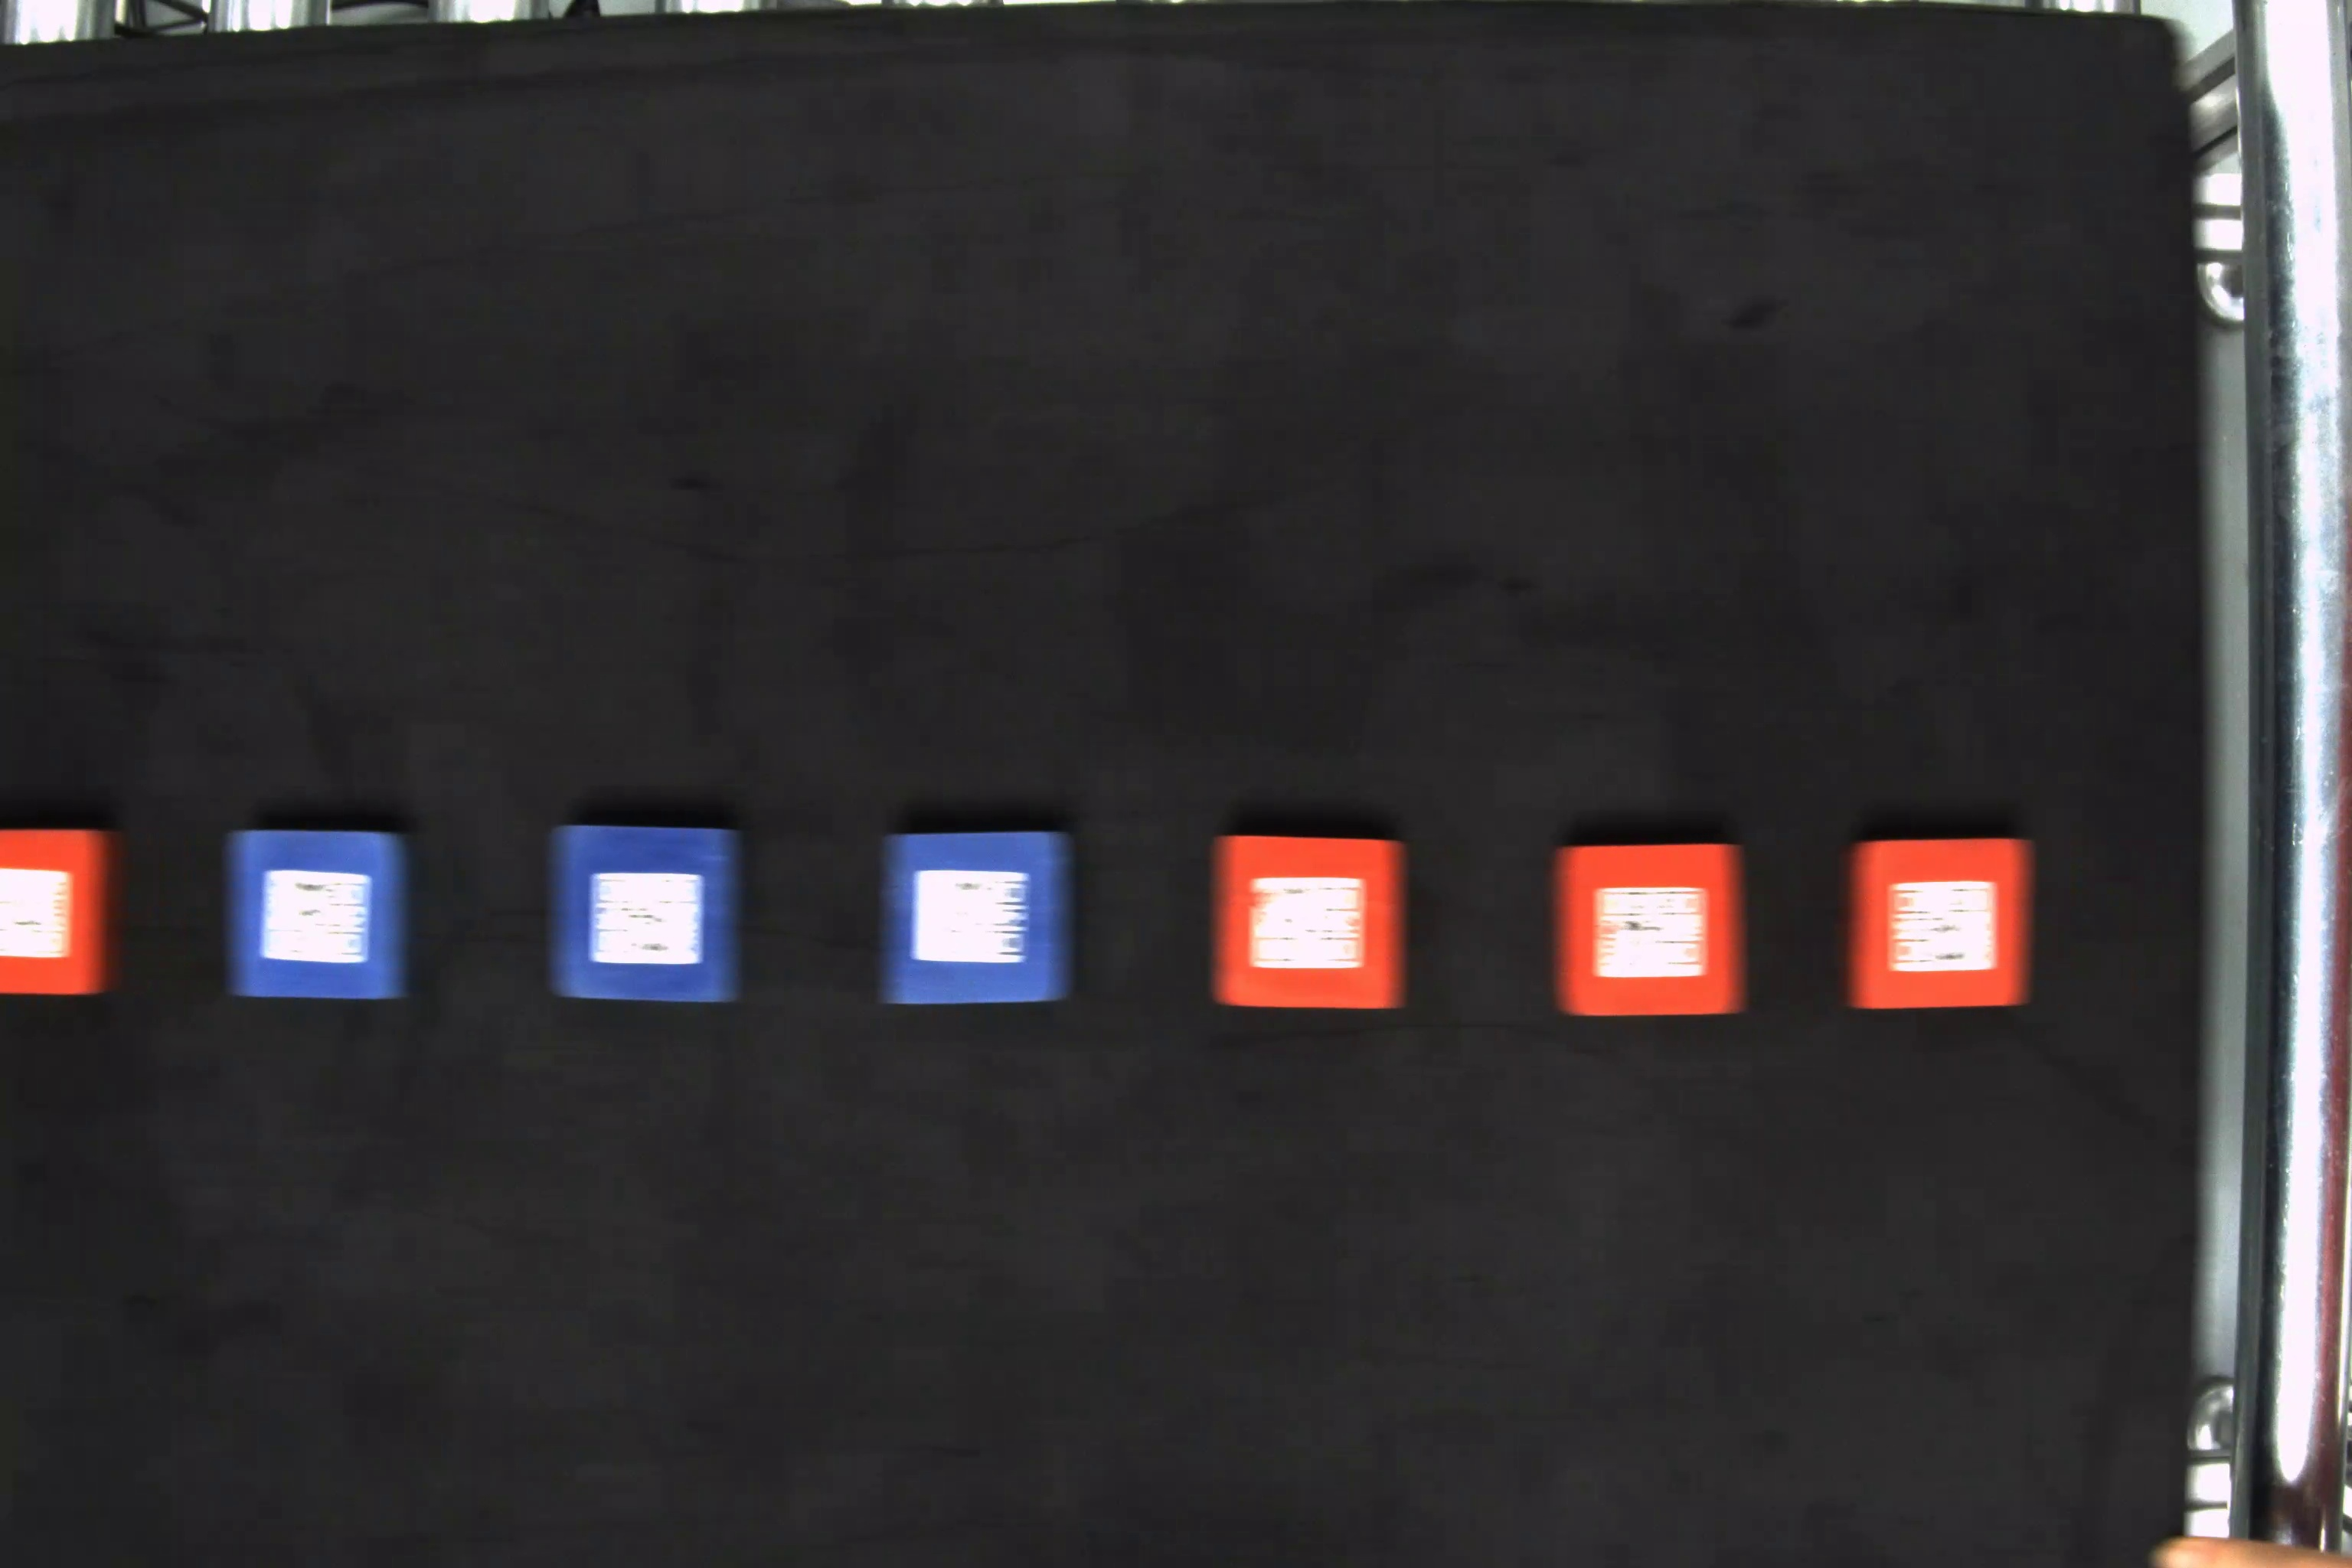wood: (546, 821, 749, 1006), (1211, 829, 1412, 1015), (1550, 842, 1757, 1020), (882, 829, 1081, 1011), (220, 822, 413, 1006), (1843, 840, 2037, 1015), (2, 826, 124, 1001)
